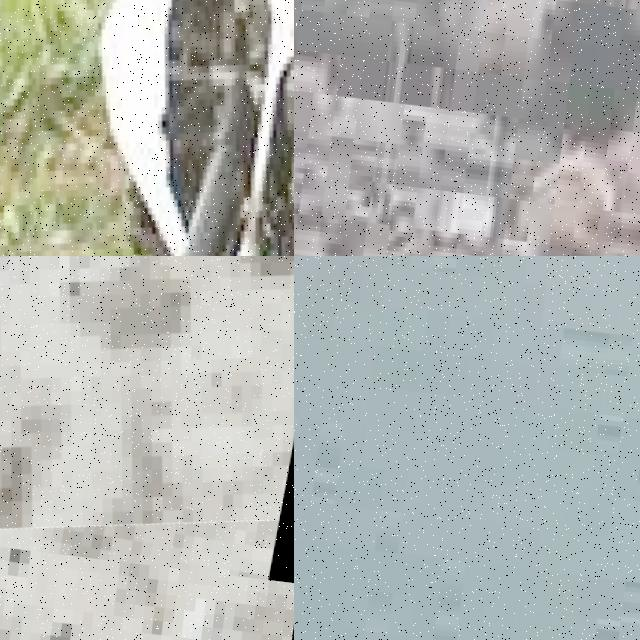drone: (0, 256, 294, 583), (0, 0, 294, 256)
